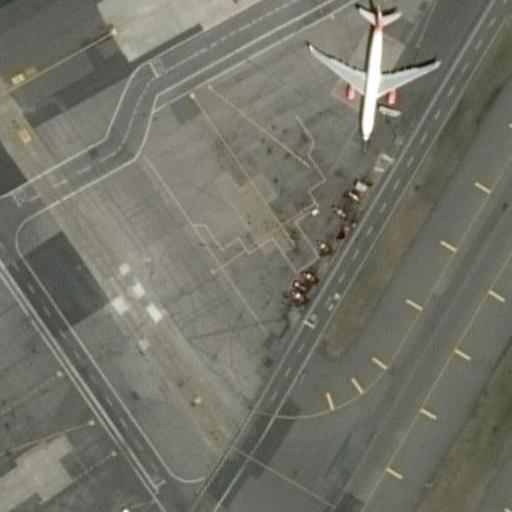Aircraft: (287, 0, 445, 139)
